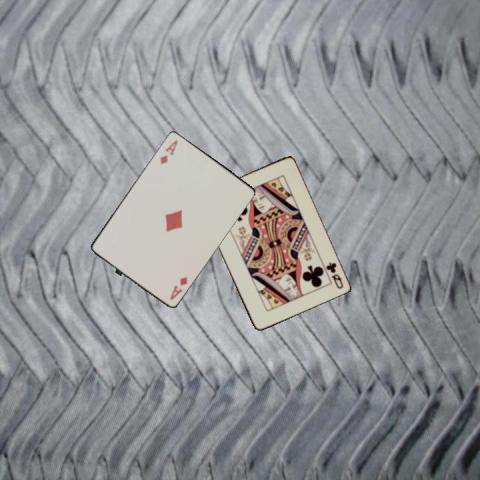Ad: (158, 137, 179, 166), (167, 274, 188, 302)
Qc: (322, 259, 344, 290)
